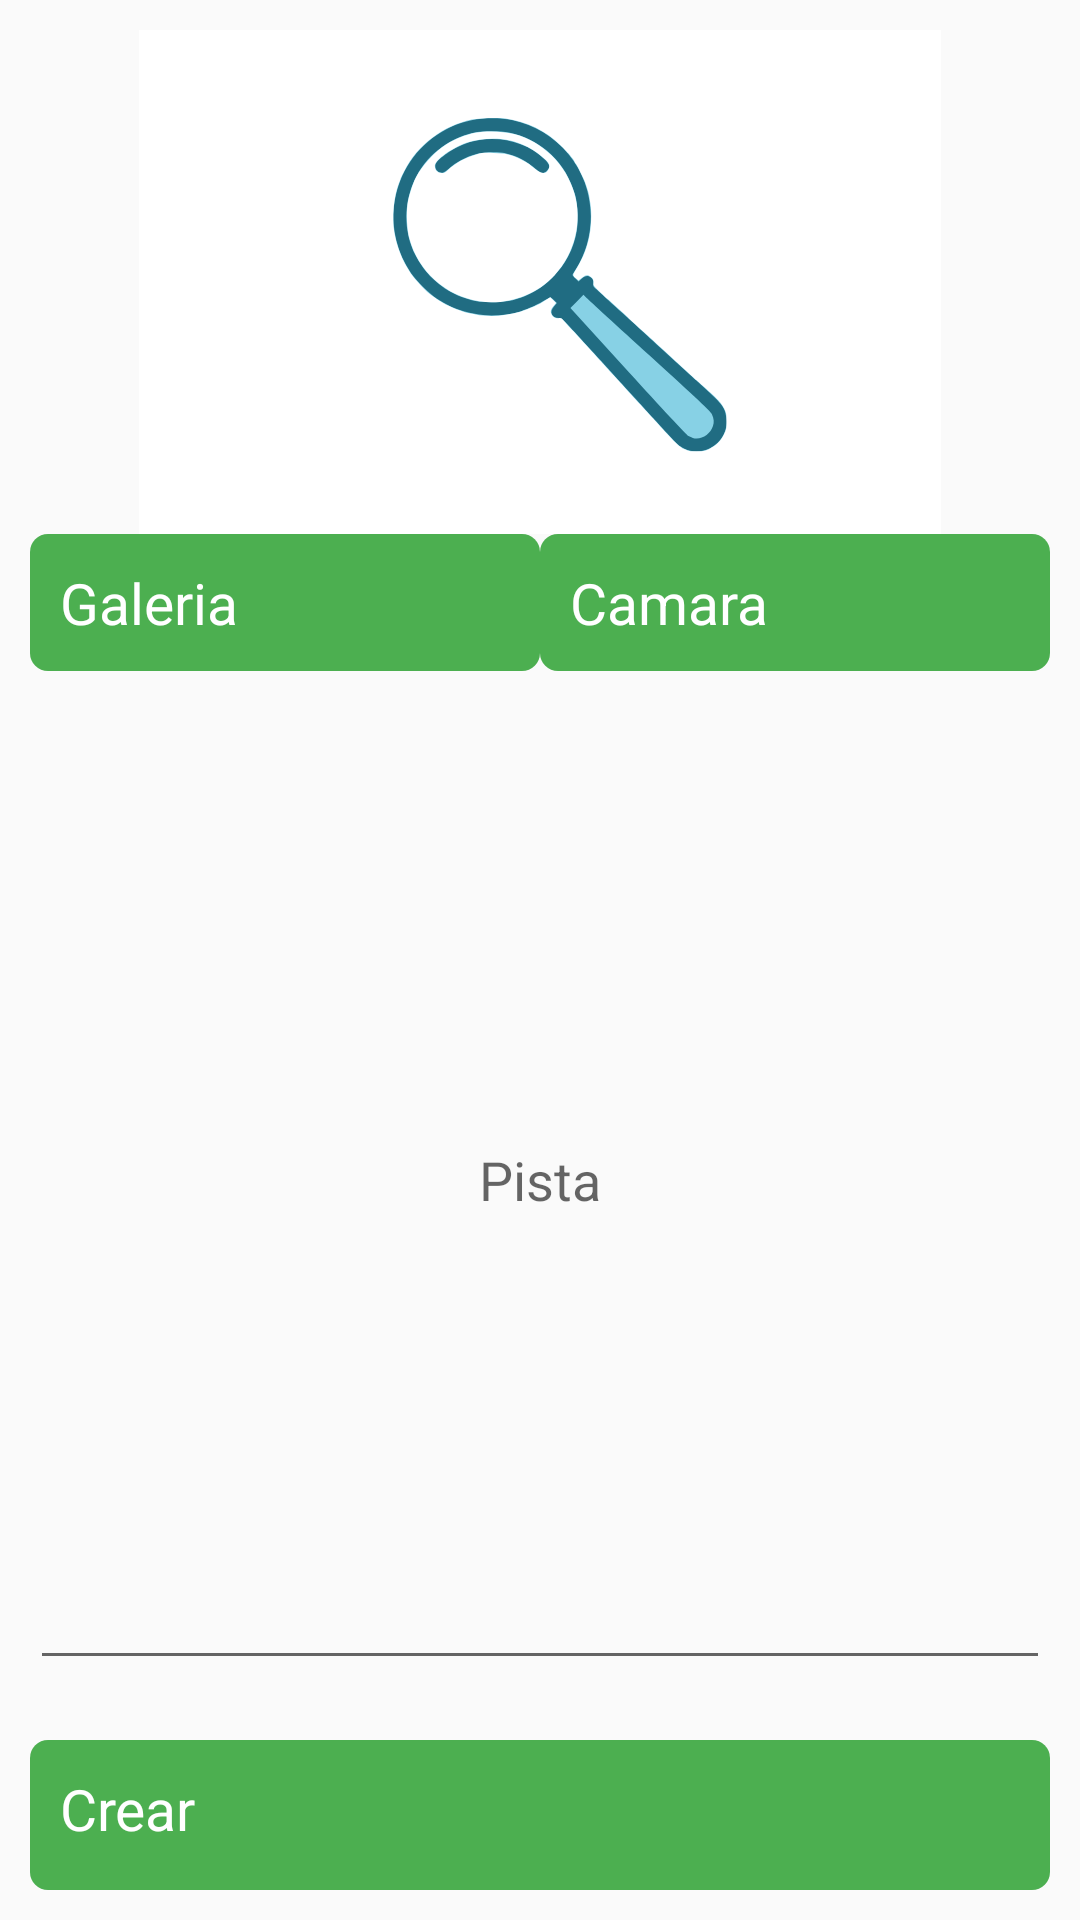

Where to tap for icons on this 1080px x 1920px app screen, as (x,y):
magnifying glass: (560,285)
